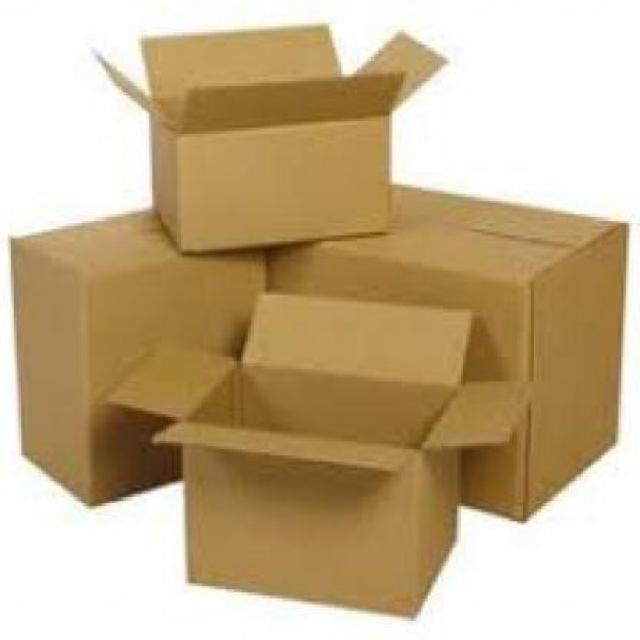box: (115, 289, 537, 614), (268, 183, 632, 522), (96, 25, 456, 251), (14, 206, 269, 505)
